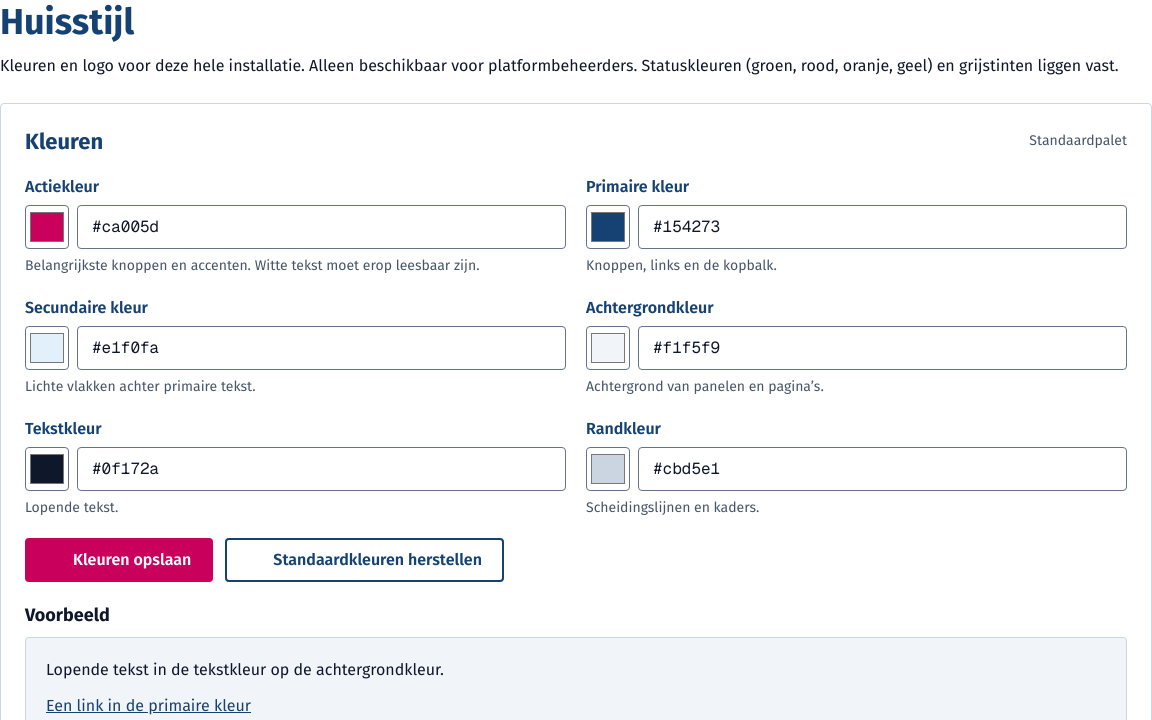
Test: Huisstijl page › saves the six colours lowercase
Replace the text in the field with id "brand-cta" with "#0B5CAD": coordinates (322, 227) [77,205,566,249]
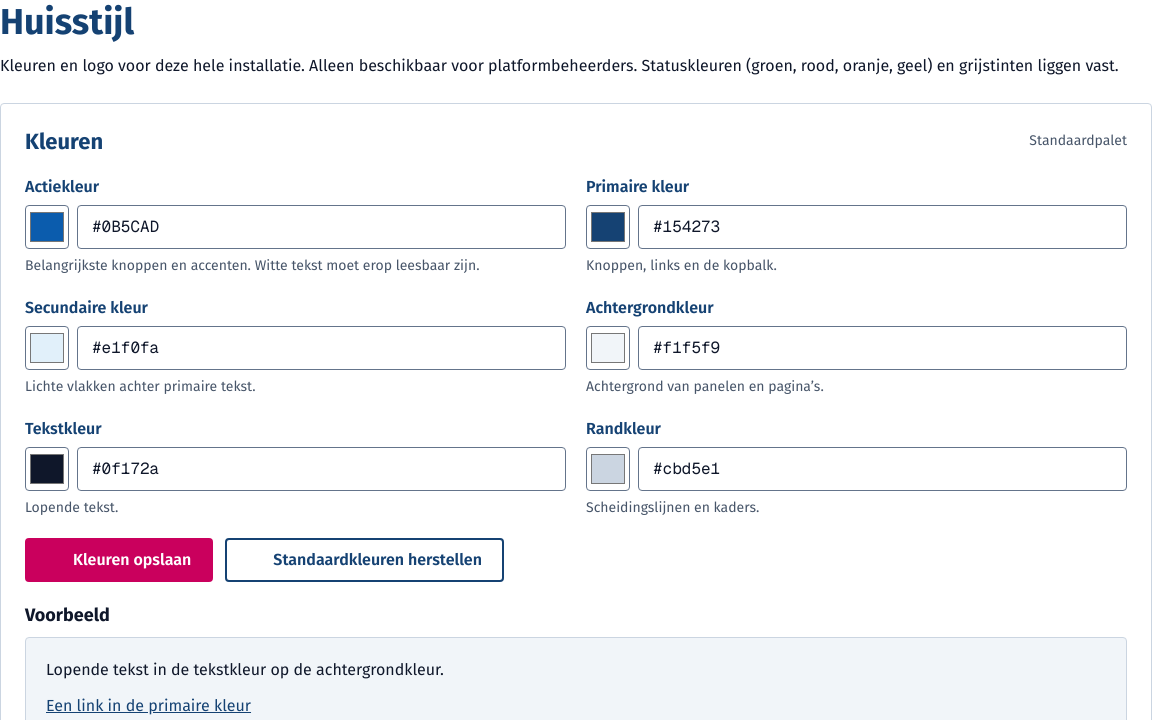
Click the button "Kleuren opslaan": coordinates (119, 560) [25,538,213,582]
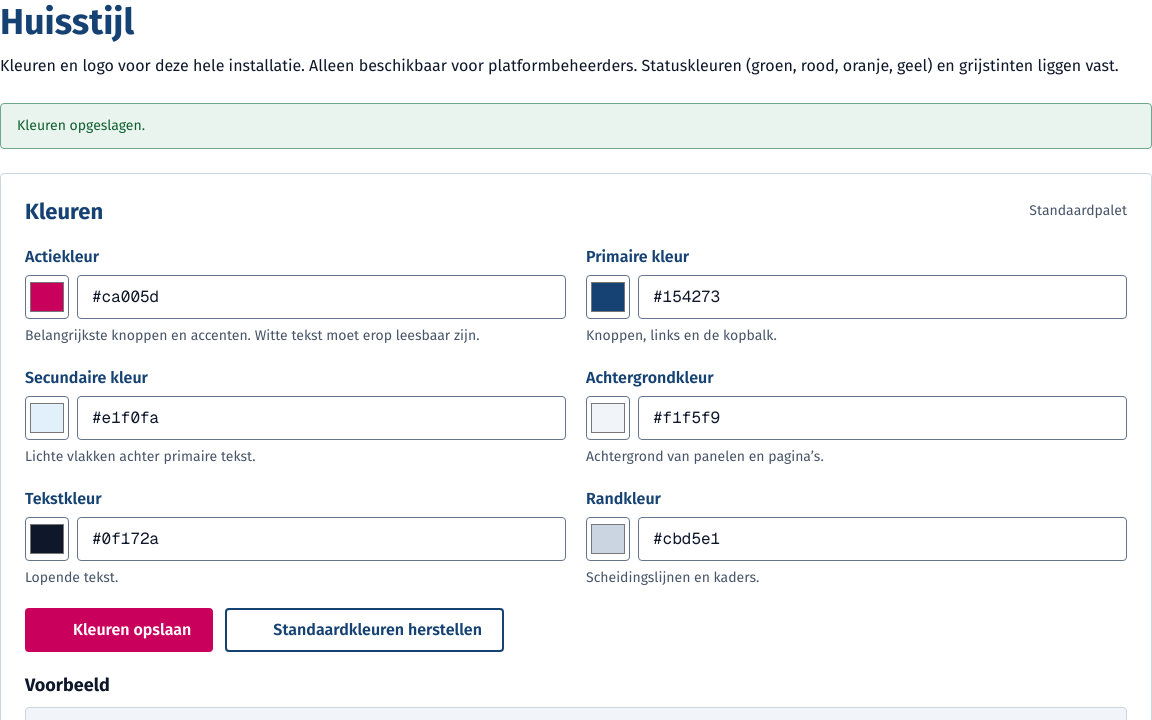
Now the text "Kleuren opgeslagen." is shown, box [0,103,1151,149]
